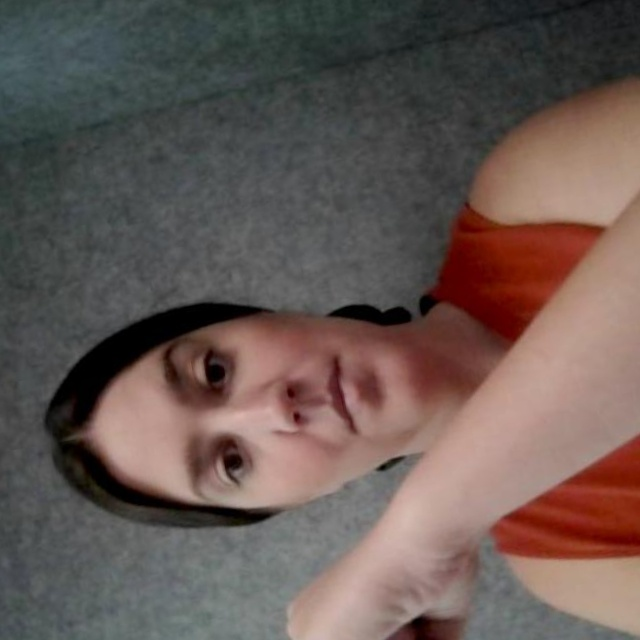Rock: (266, 513, 514, 640)
